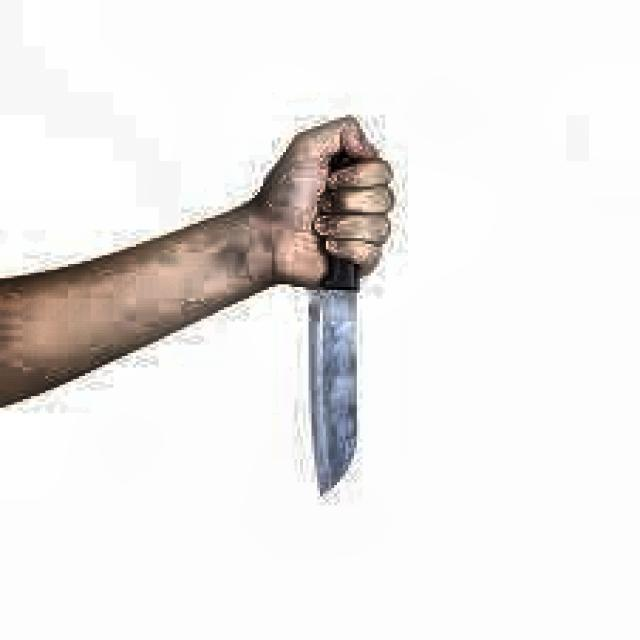knife: (311, 151, 362, 498)
